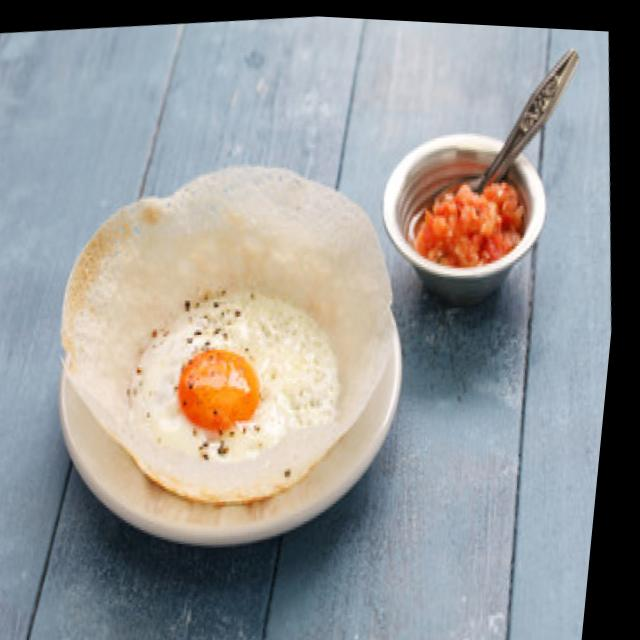AAPAM: (59, 164, 396, 503)
EGG: (150, 347, 266, 459)
